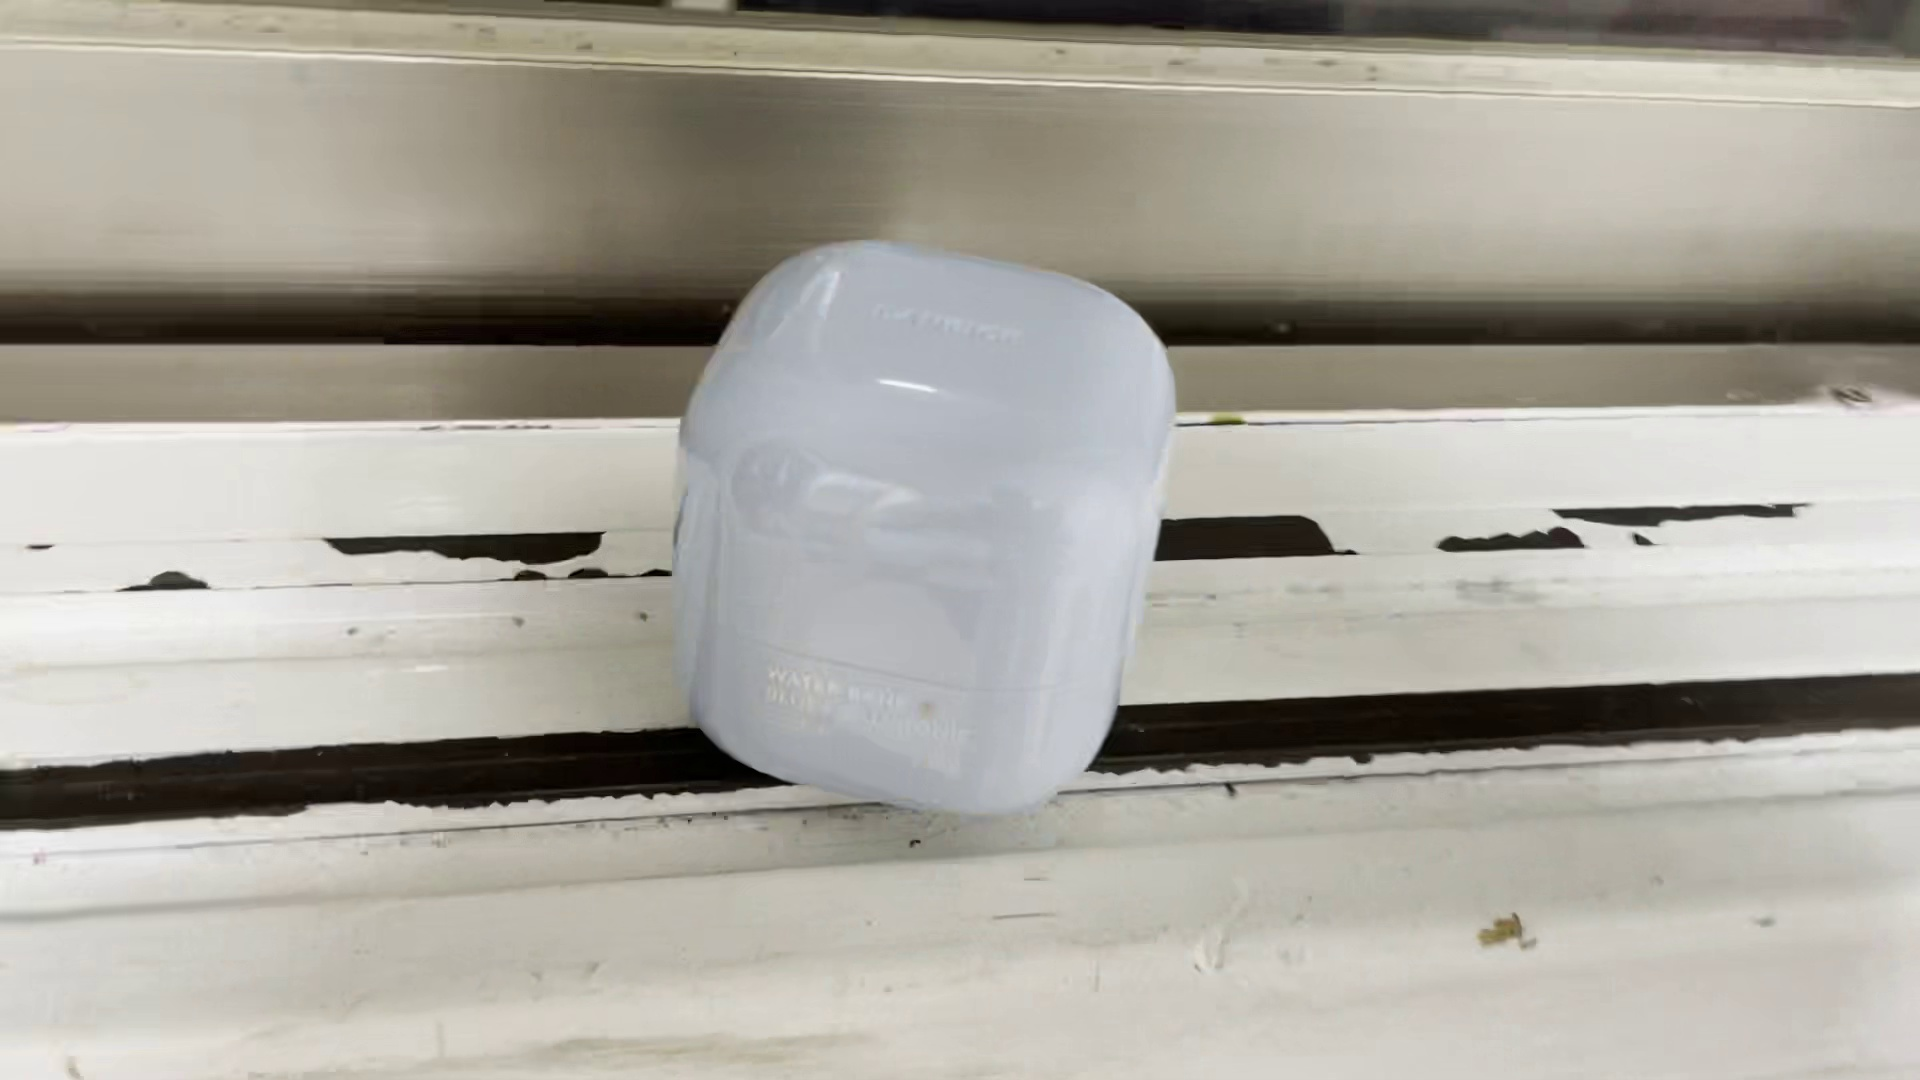cream: (675, 245, 1167, 807)
